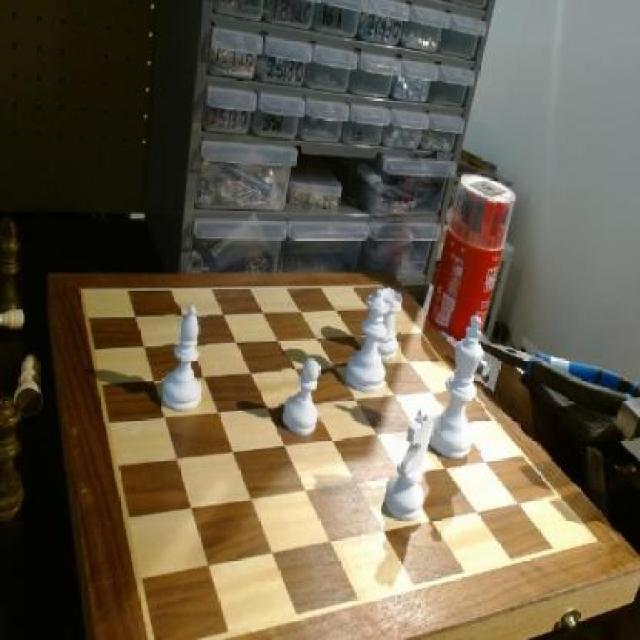black-rook: (162, 304, 206, 416)
white-bishop: (429, 310, 484, 454)
white-king: (388, 404, 434, 520)
white-knight: (280, 357, 326, 439)
white-pawn: (348, 289, 388, 397)
white-queen: (376, 285, 402, 363)
